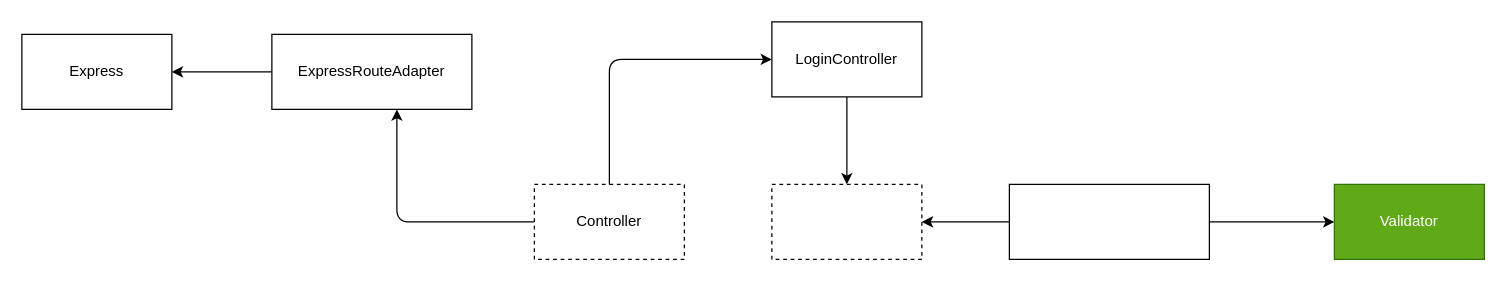
The diagram is 1506 pixels wide and 281 high, and some of its shapes have lost their labels. Here are the shapes that lost their labels. From the top down, the box of each, then its label:
(771, 183, 922, 259): EmailValidator
(1008, 183, 1209, 259): EmailValidatorAdapter
